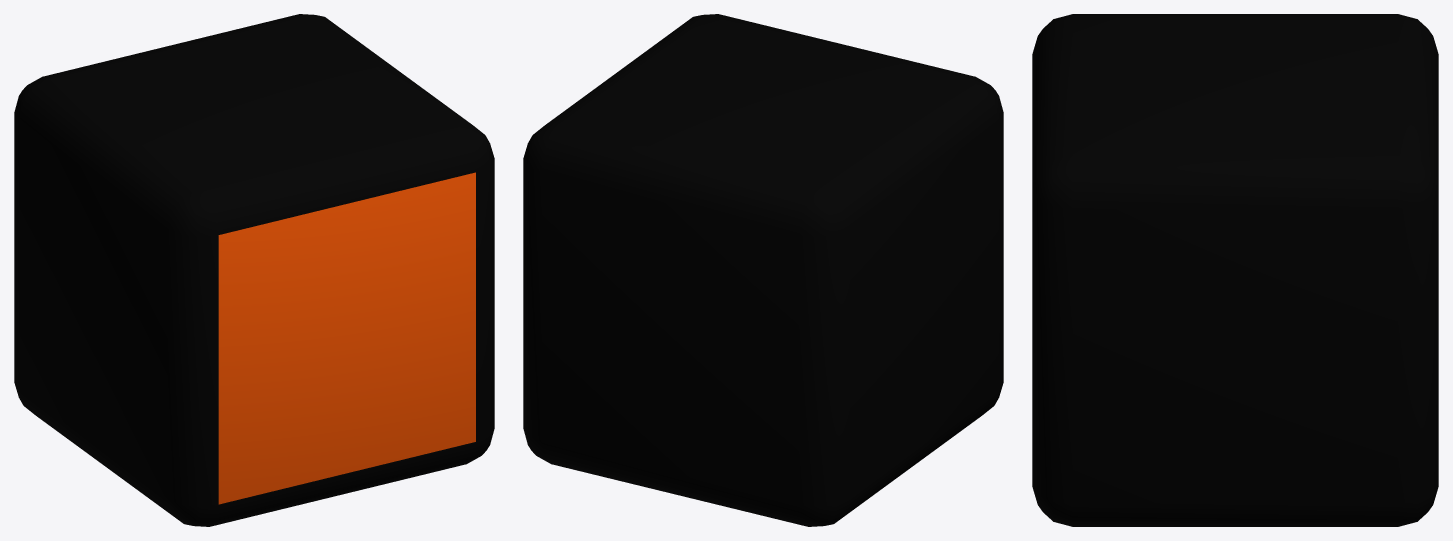
The model's file is cube_back_up_edge.gltf.
3 views of the same model, side by side, from view 1: azimuth 30°, elevation 25°; view 2: azimuth 150°, elevation 25°; view 3: azimuth 270°, elevation 25° (orthographic). The views are drawn at different scales.
Parts seen in each view (by area): view 1: Cube.001; view 2: Cube.001; view 3: Cube.001.
Boxes of the visible parts, <box> form: Cube.001: <box>14,14,494,526</box>; Cube.001: <box>523,14,1003,526</box>; Cube.001: <box>1032,14,1438,526</box>.
Bounding box in the file's own units: 2 × 2 × 2.
